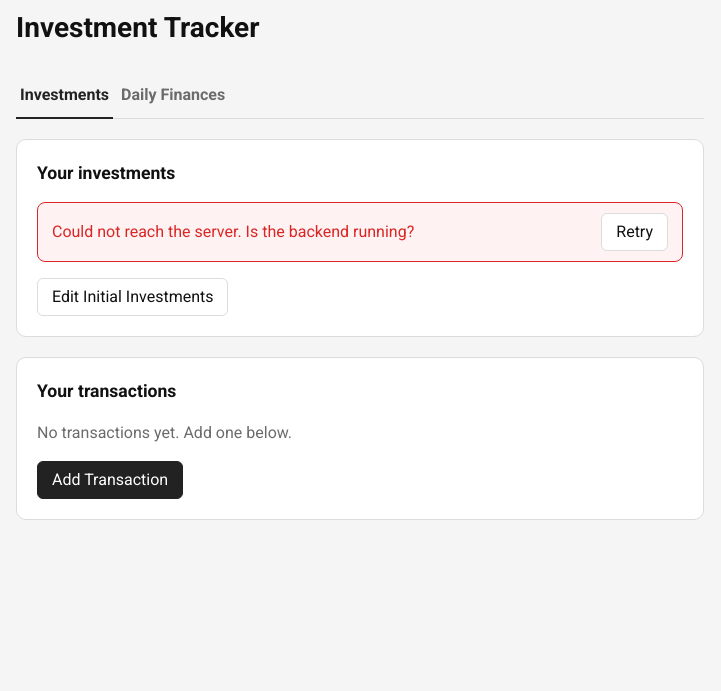
Test: the investments table (the portfolio) › shows the error and lets the user retry
Expected: the message shows "Could not reach the server", left=52, top=222, right=414, bottom=241
Click the button "Retry": click(635, 232) left=601, top=213, right=668, bottom=251
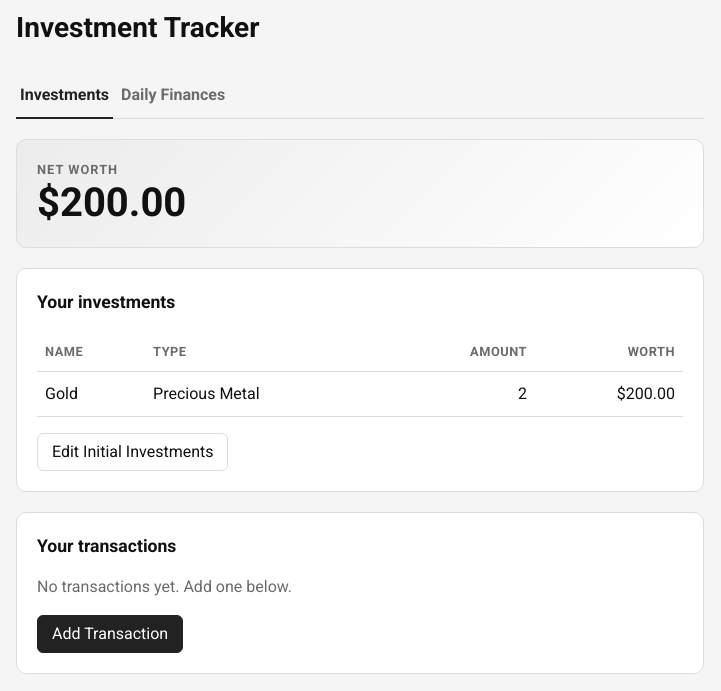
Expected: the text "Gold" is shown, left=37, top=371, right=145, bottom=416
Expected: the message "Could not reach the server. Is the backend running? Retry" is gone
